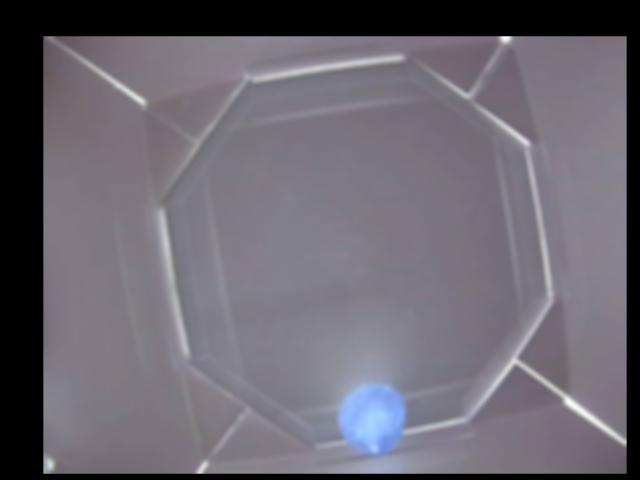Potato: (339, 383, 406, 456)
